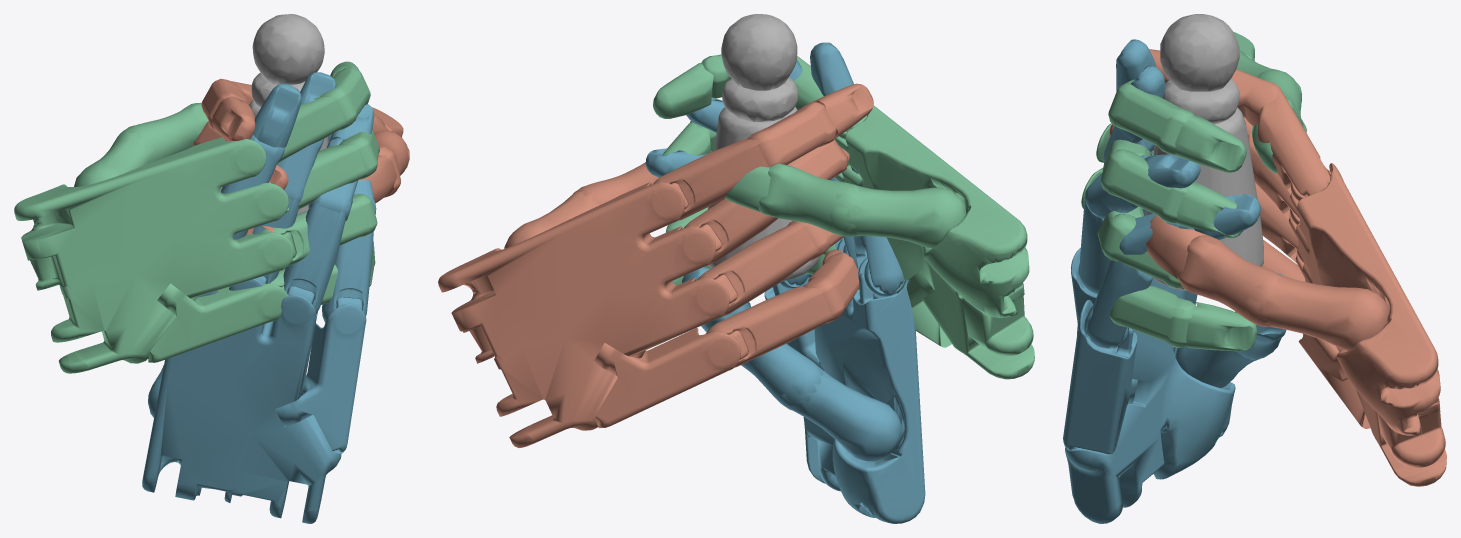
Rendered from novel_mujoco-STACKING_RING_grasp.glb.
3 renders of one model, left to right at view 1: azimuth 30°, elevation 25°; view 2: azimuth 150°, elevation 25°; view 3: azimuth 270°, elevation 25°, orthographic. The views are drawn at different scales.
Bounding box in the file's own units: 0.2368 × 0.2261 × 0.1523.
